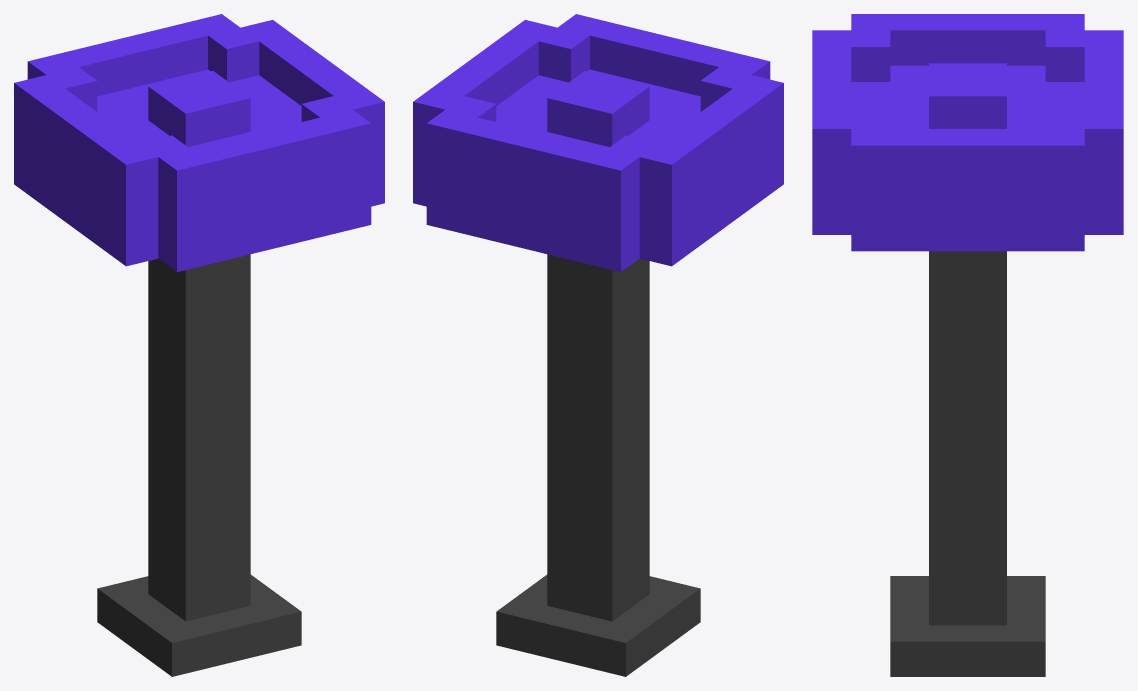
File: BancoP.obj
3 views of the same model, side by side, from view 1: azimuth 30°, elevation 25°; view 2: azimuth 150°, elevation 25°; view 3: azimuth 270°, elevation 25° (orthographic). The views are drawn at different scales.
Bounding box in the file's own units: 0.8 × 1.6 × 0.8.
Materials: 1 (1 with a texture image).
